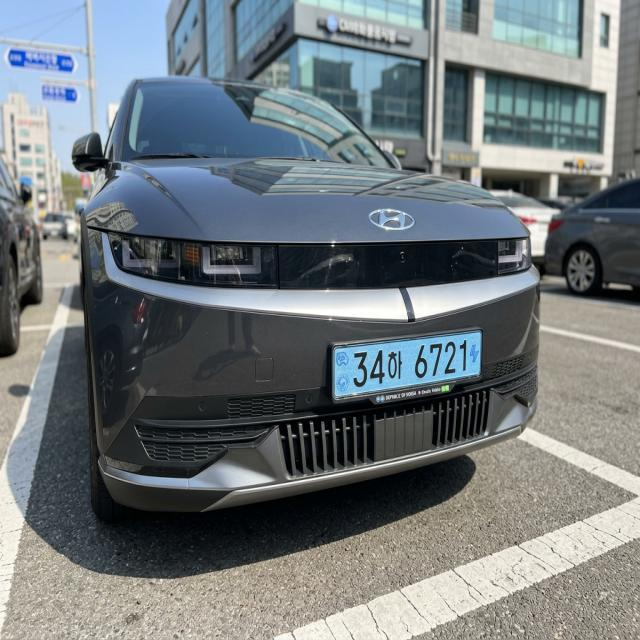car: (321, 317, 504, 429)
carev: (334, 343, 353, 404), (468, 329, 487, 379)
